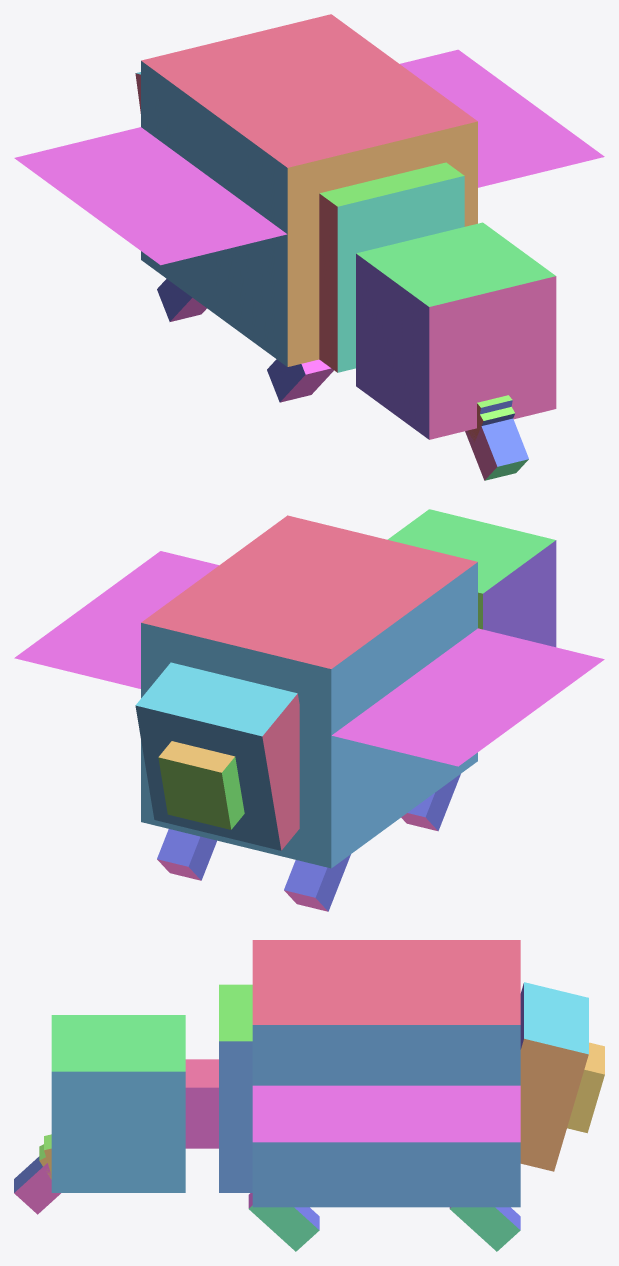
File: essence_collector.gltf
3 views of the same model, one above another, from view 1: azimuth 30°, elevation 25°; view 2: azimuth 150°, elevation 25°; view 3: azimuth 270°, elevation 25° (orthographic). The views are drawn at different scales.
Visible parts, largest first — view 1: Middle, Head, Right (×3), Top, Left, Bottom; view 2: Middle, Right (×3), Top, Left (×2), Head, Bottom; view 3: Middle, Head, Left (×3), Top (×2), Bottom (×2), Neck.
Part boxes in pixels (left/top/right/bottom): Middle: left=141, top=14, right=477, bottom=366; Head: left=356, top=222, right=556, bottom=439; Right (×3): left=14, top=127, right=333, bottom=402; Top: left=319, top=162, right=464, bottom=372; Left: left=400, top=49, right=604, bottom=187; Bottom: left=465, top=418, right=528, bottom=480; Middle: left=141, top=515, right=477, bottom=868; Right (×3): left=284, top=628, right=604, bottom=911; Top: left=135, top=662, right=299, bottom=850; Left (×2): left=14, top=551, right=218, bottom=880; Head: left=387, top=509, right=556, bottom=647; Bottom: left=158, top=741, right=244, bottom=829; Middle: left=252, top=940, right=520, bottom=1207; Head: left=51, top=1015, right=185, bottom=1192; Left (×3): left=248, top=1085, right=520, bottom=1251; Top (×2): left=219, top=982, right=588, bottom=1192; Bottom (×2): left=14, top=1042, right=604, bottom=1214; Neck: left=185, top=1059, right=218, bottom=1148.
Size of the model in its own units: 0.875 by 0.4817 by 1.1.
